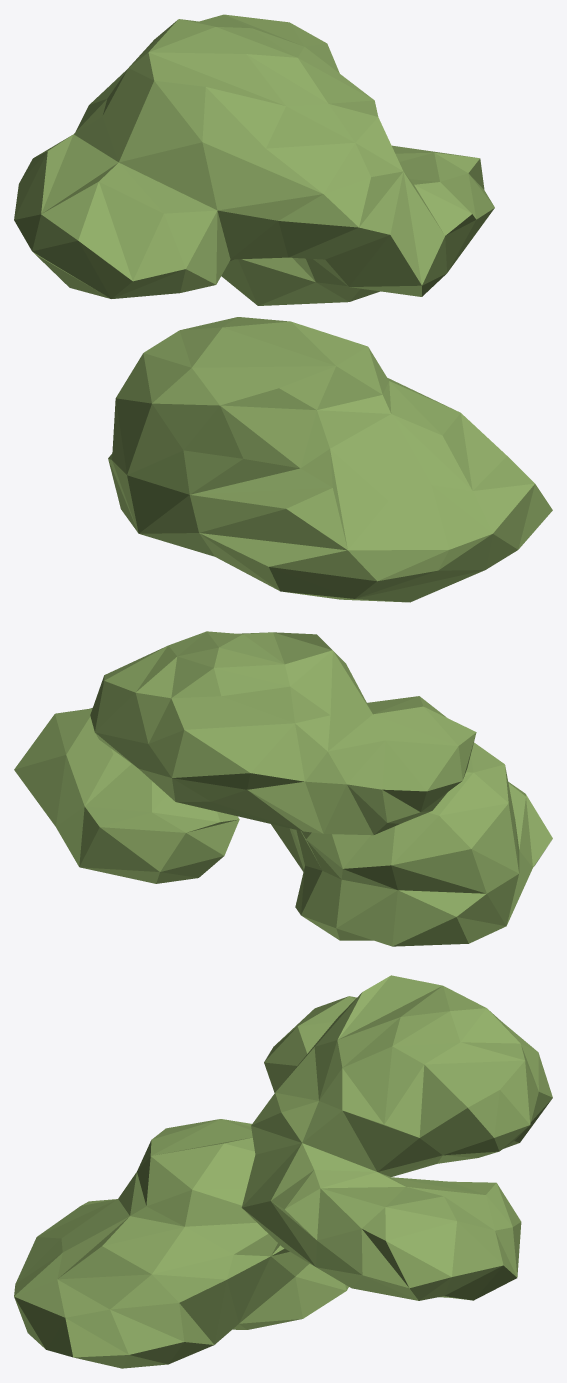
File: tree2leaves.fbx
3 renders of one model, top to bottom at view 1: azimuth 30°, elevation 25°; view 2: azimuth 150°, elevation 25°; view 3: azimuth 270°, elevation 25°, orthographic. The views are drawn at different scales.
Visible parts, largest first — view 1: polySurface2; view 2: polySurface2; view 3: polySurface2.
Part boxes in pixels (box(x1,y1,x2,y2)): polySurface2: box(14, 14, 552, 602); polySurface2: box(14, 631, 552, 946); polySurface2: box(14, 975, 552, 1368).
Bounding box in the file's own units: 23.47 × 19.48 × 26.95.
